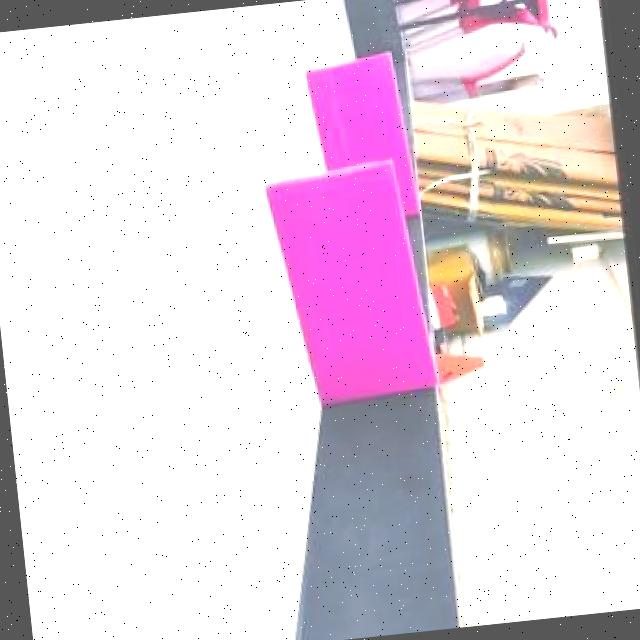xparking: (278, 164, 421, 397), (306, 56, 398, 162)
